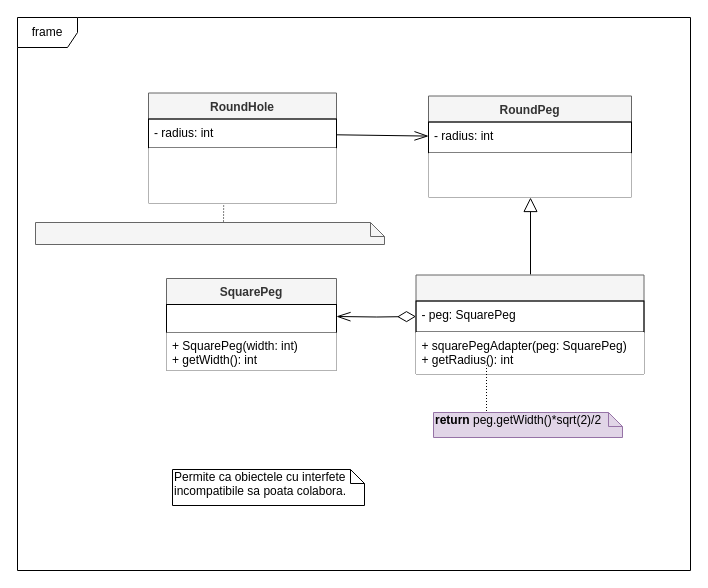
This 708x588 diagram has some shape labels left out. Each missing label, with the box of its shape:
+ RoundHole(radius: int) + getRadius(): int + fits(peg: RoundPeg): boolean: (148, 148, 336, 202)
+ roundPeg(radius: int) + getRadius(): int: (428, 152, 631, 196)
- width: int: (166, 304, 336, 332)
return boolean result = ( this .getRadius() >= peg.getRadius()): (34, 222, 384, 244)
SquareAdaptor: (415, 274, 644, 374)
